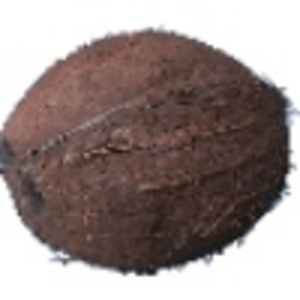coco: (1, 30, 300, 275)
